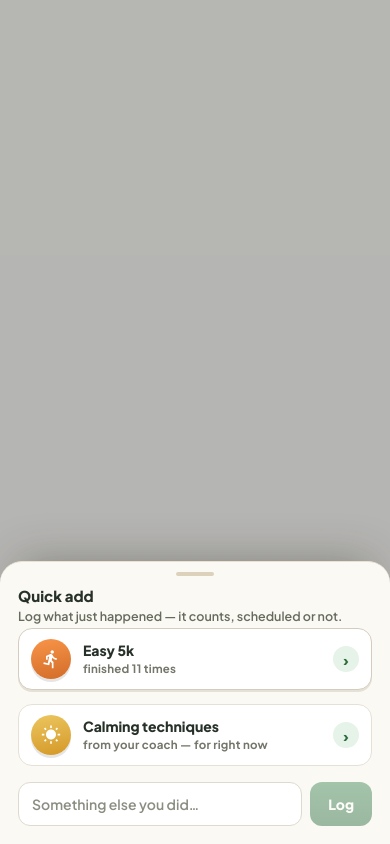
Test: QuickAddSheet › pressing the row opens the sub-screen with the coach’s items
The width and height of the screenshot is (390, 844).
Click the button labelled "Calming techniques" at (195, 735), box [18,704,372,766]
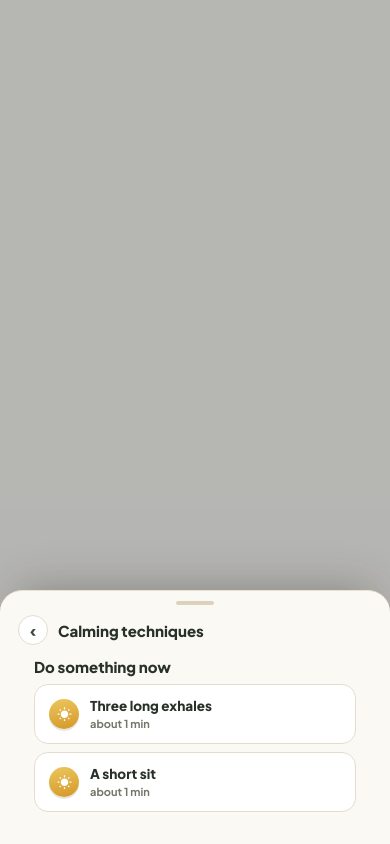
Now the button named "Back" is shown, box [18,615,48,645]
Now the text "Three long exhales" is shown, box [90,697,212,714]
Now the text "A short sit" is shown, box [90,765,156,782]
